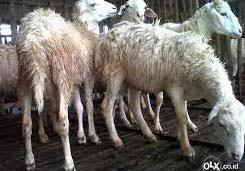Sheep: (206, 92, 245, 162), (198, 0, 245, 44), (70, 0, 119, 30), (120, 0, 157, 29)
